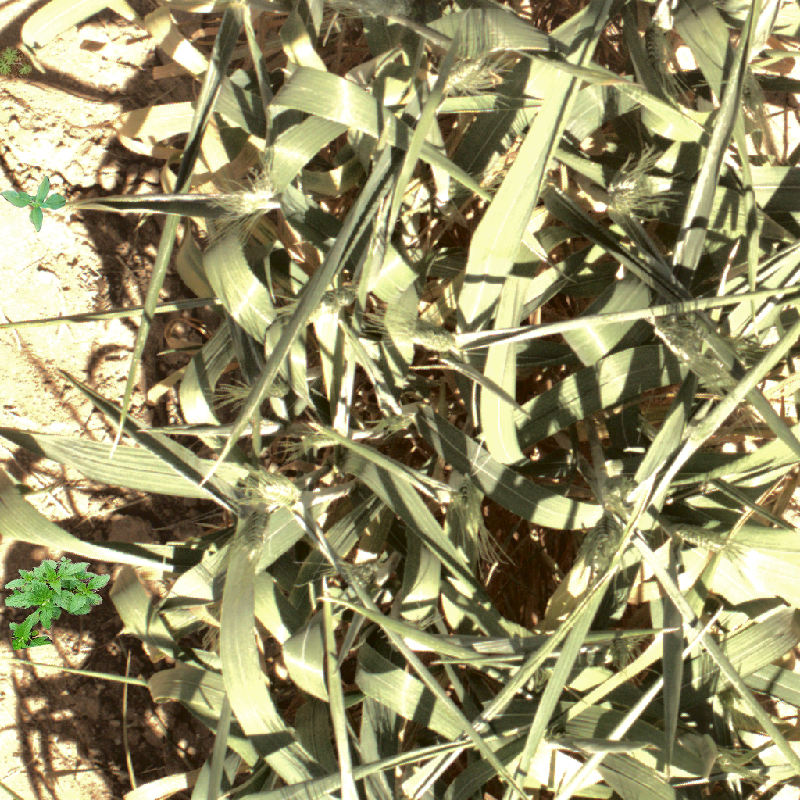spikelet: (564, 510, 628, 597), (601, 167, 674, 218), (665, 517, 738, 561), (650, 305, 707, 359), (248, 471, 305, 512), (228, 179, 282, 217)
weed: (1, 548, 121, 651), (1, 176, 66, 232), (1, 46, 32, 78)
